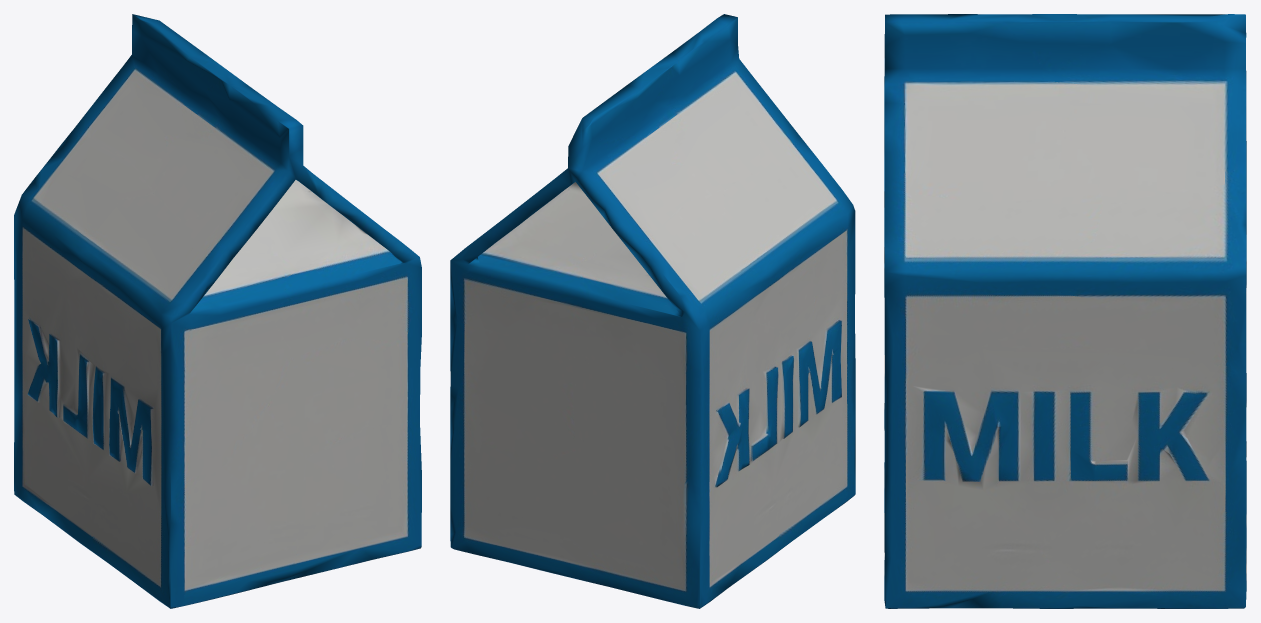
File: milk.glb
The picture shows the model from 3 angles, left to right: view 1: azimuth 30°, elevation 25°; view 2: azimuth 150°, elevation 25°; view 3: azimuth 270°, elevation 25°; orthographic projection. The views are drawn at different scales.
Parts seen in each view (by area): view 1: tripo_node_828a8c91-e198-4279-a7b2-08ffa0d2519b; view 2: tripo_node_828a8c91-e198-4279-a7b2-08ffa0d2519b; view 3: tripo_node_828a8c91-e198-4279-a7b2-08ffa0d2519b.
Part boxes in pixels (x1,y1,x2,y2): tripo_node_828a8c91-e198-4279-a7b2-08ffa0d2519b: (14, 14, 421, 608); tripo_node_828a8c91-e198-4279-a7b2-08ffa0d2519b: (450, 14, 855, 608); tripo_node_828a8c91-e198-4279-a7b2-08ffa0d2519b: (884, 14, 1246, 608).
Size of the model in its own units: 0.5858 by 0.9785 by 0.6165.
Materials: 1 (1 with a texture image).
